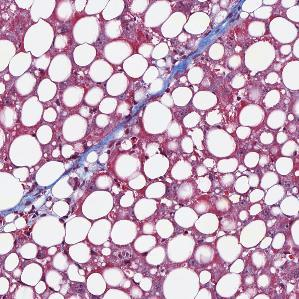fibrosis: (164, 36, 214, 78)
